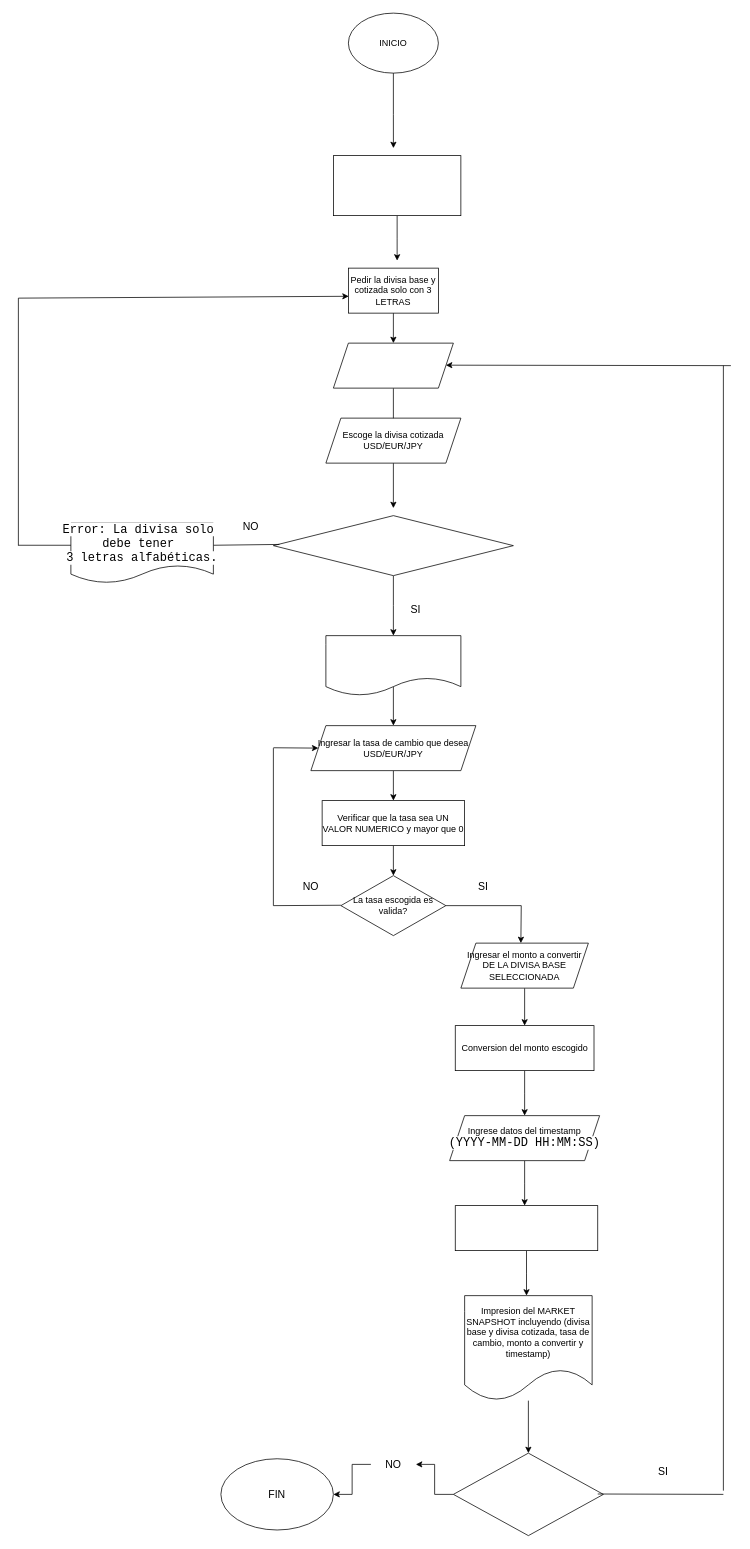
The diagram is 750 pixels wide and 1549 high, and some of its shapes have lost their labels. Here are the shapes that lost their labels. From the top down, the box of each, then its label:
(333, 155, 461, 216): Establcer las divisas que son USD/EUR/JPY
(333, 342, 453, 388): Ingresa la divisa base USD/EUR/JPY
(273, 515, 513, 576): La divisa base y divisa cotizada solo son tres letras?
(325, 635, 461, 696): Mostrar el par seleccionado
(454, 1205, 598, 1251): Generacion del timestamp
(453, 1452, 603, 1536): ¿Desea realizar otra conversión?
